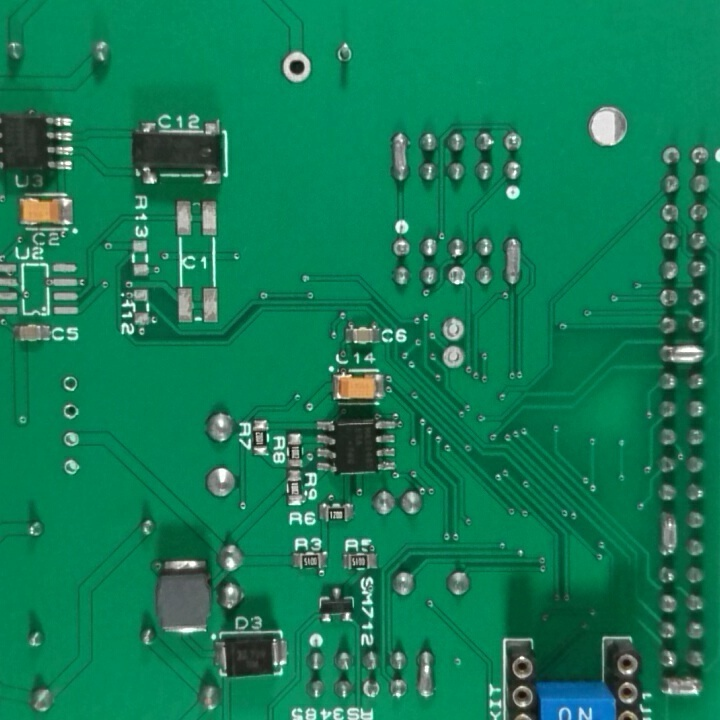F: (279, 45, 315, 87), (442, 343, 469, 376), (441, 313, 468, 345), (444, 266, 473, 293), (686, 199, 711, 227), (359, 678, 383, 706), (330, 38, 354, 64), (59, 454, 81, 482), (659, 283, 680, 312), (58, 370, 81, 396), (59, 427, 82, 452), (501, 126, 523, 152), (59, 398, 81, 424), (688, 143, 710, 169), (390, 236, 412, 262)
P: (649, 340, 714, 366), (655, 672, 706, 703), (412, 646, 439, 701), (390, 124, 413, 188), (501, 230, 525, 289), (653, 511, 680, 560)
